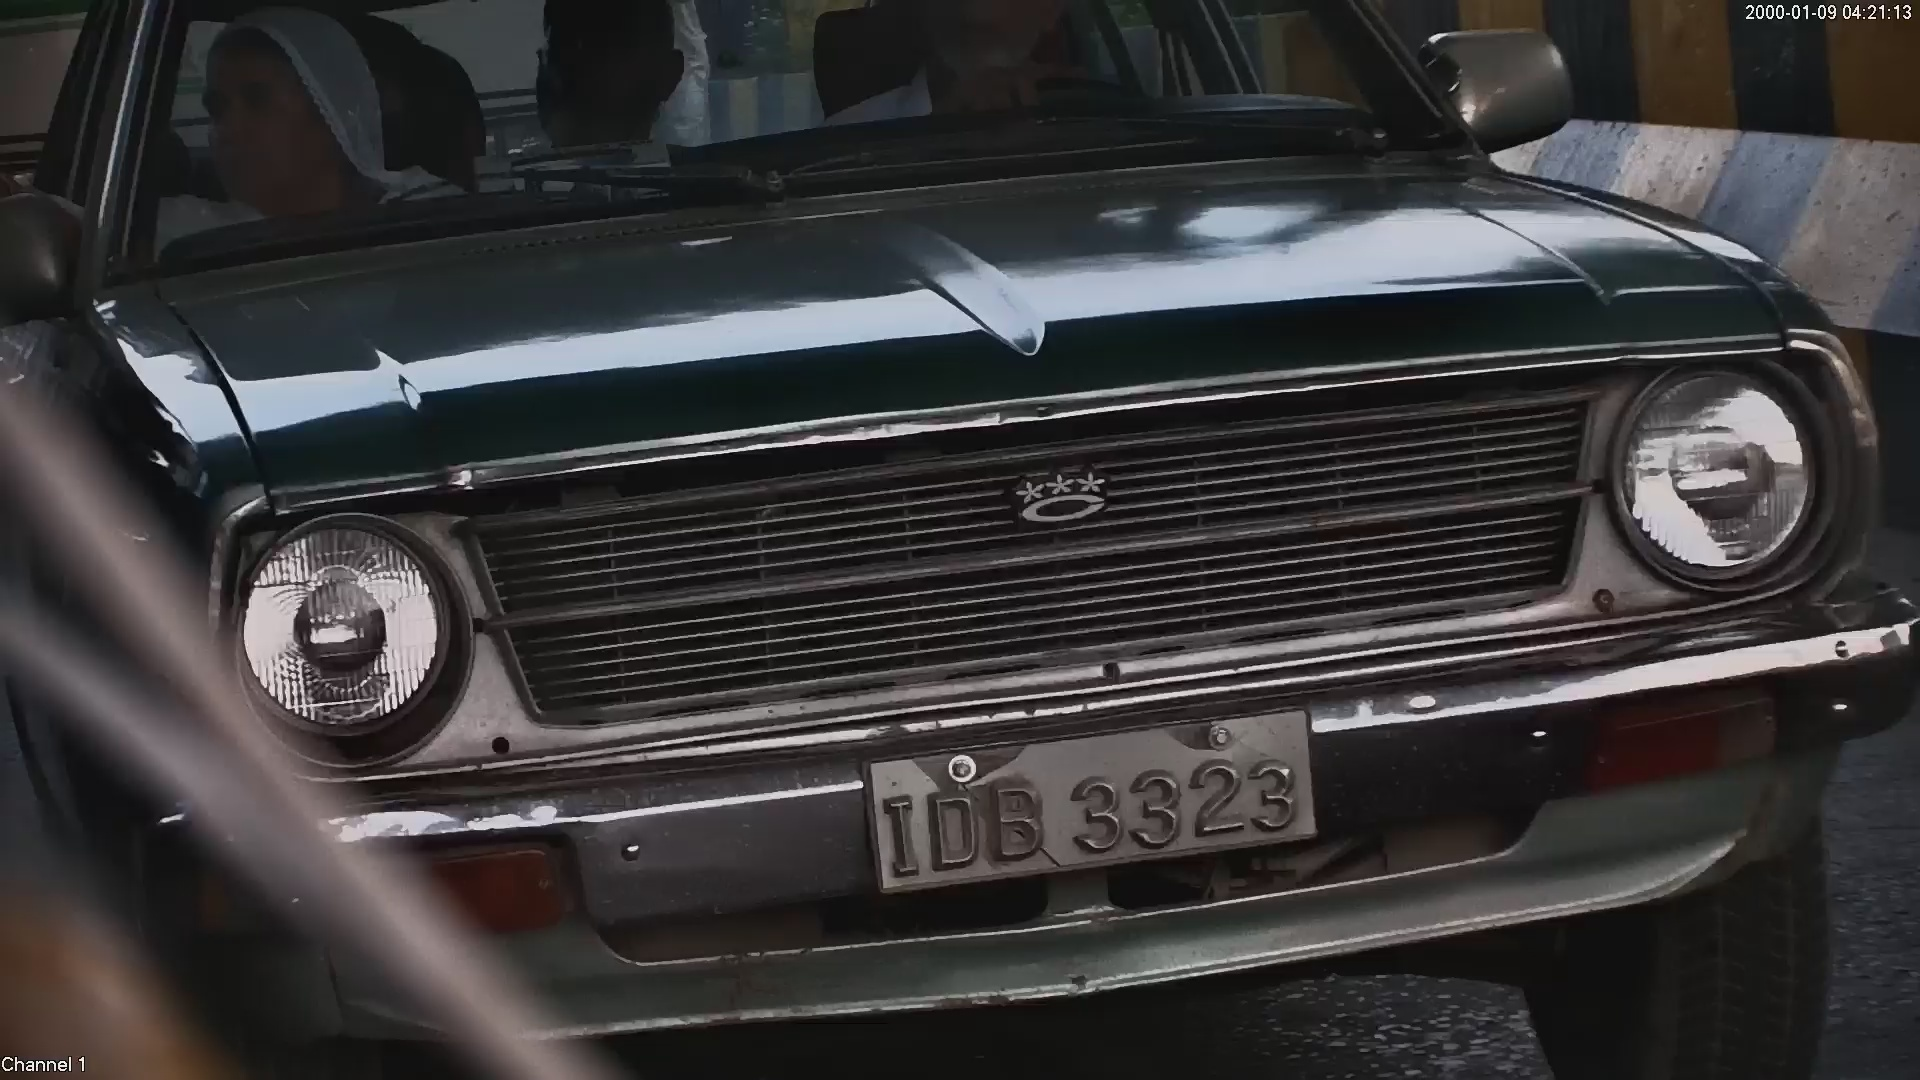Number_Plate: (830, 695, 1363, 899)
Undefined: (217, 512, 473, 762), (1608, 349, 1841, 590), (987, 457, 1121, 527)
